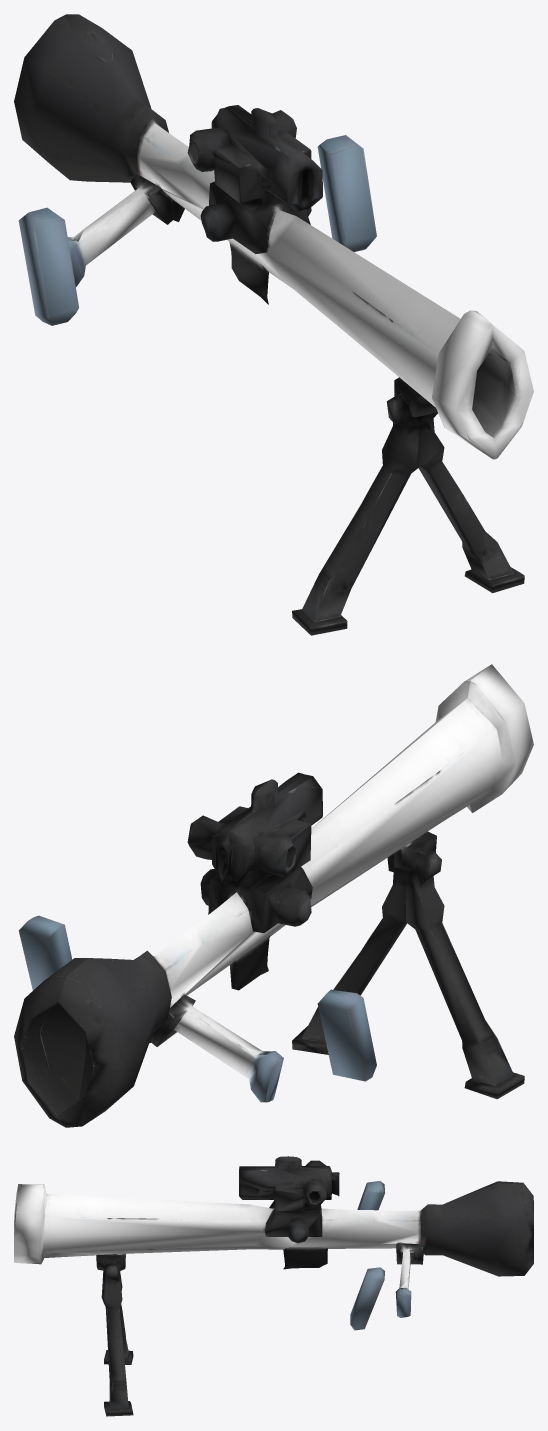
File: gun_bazooka_m.glb
3 views of the same model, one above another, from view 1: azimuth 30°, elevation 25°; view 2: azimuth 150°, elevation 25°; view 3: azimuth 270°, elevation 25° (orthographic). The views are drawn at different scales.
Parts seen in each view (by area): view 1: world; view 2: world; view 3: world.
Part boxes in pixels (x1,y1,x2,y2): world: (14,14,533,635); world: (14,664,533,1127); world: (14,1156,533,1416).
Size of the model in its own units: 0.4368 by 0.4868 by 1.
Materials: 1 (1 with a texture image).
